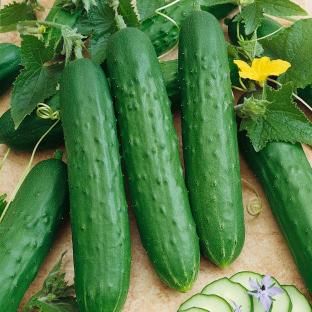Cucumber: (108, 28, 199, 292), (60, 59, 131, 311), (179, 11, 244, 268), (238, 132, 311, 293), (0, 152, 68, 311), (0, 108, 54, 151), (201, 278, 253, 311), (139, 15, 179, 55), (0, 43, 22, 94), (160, 59, 180, 110), (46, 0, 82, 27), (178, 294, 232, 311), (282, 285, 311, 311), (270, 277, 292, 311), (228, 17, 238, 45), (298, 85, 311, 106), (184, 308, 207, 311)
